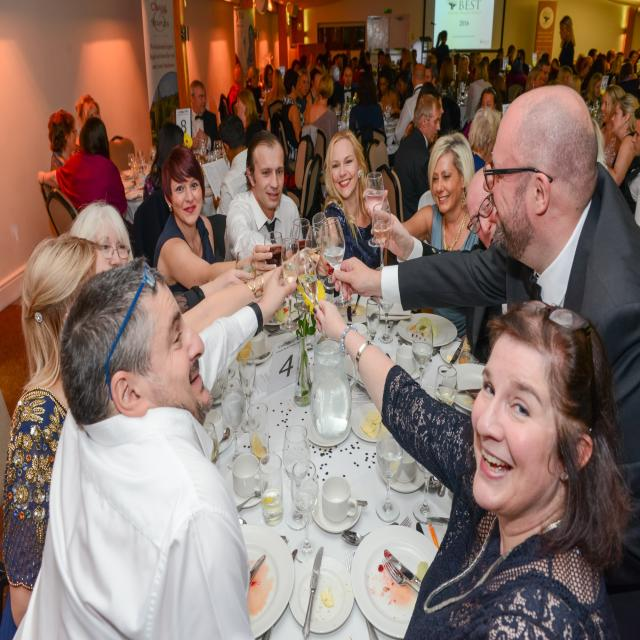body: (331, 81, 639, 598), (2, 231, 298, 640), (308, 292, 638, 640), (6, 253, 299, 640), (365, 130, 482, 342), (152, 144, 278, 290), (223, 128, 305, 264), (318, 128, 391, 278), (36, 116, 128, 219), (391, 93, 442, 222), (66, 198, 134, 272), (601, 92, 640, 214), (211, 112, 253, 216), (452, 46, 557, 86), (288, 45, 436, 71), (141, 121, 186, 204), (348, 70, 386, 165), (225, 62, 272, 132), (466, 166, 502, 252), (279, 68, 306, 176), (304, 73, 340, 152), (393, 63, 426, 145), (576, 48, 640, 90), (467, 107, 504, 174), (600, 84, 628, 170), (463, 86, 504, 144), (376, 70, 399, 171), (190, 80, 220, 156), (46, 107, 79, 172), (467, 61, 494, 126), (264, 69, 287, 133), (629, 105, 640, 227), (337, 63, 358, 121), (557, 15, 576, 74), (73, 92, 104, 124), (434, 30, 450, 77), (397, 71, 414, 111), (242, 22, 258, 61)
